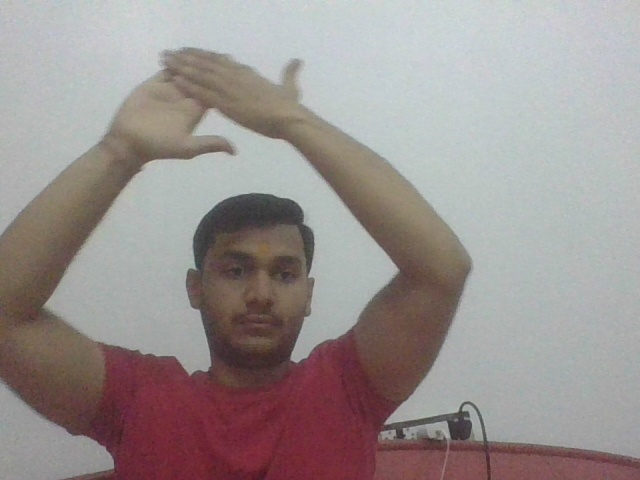H: (107, 44, 312, 172)
